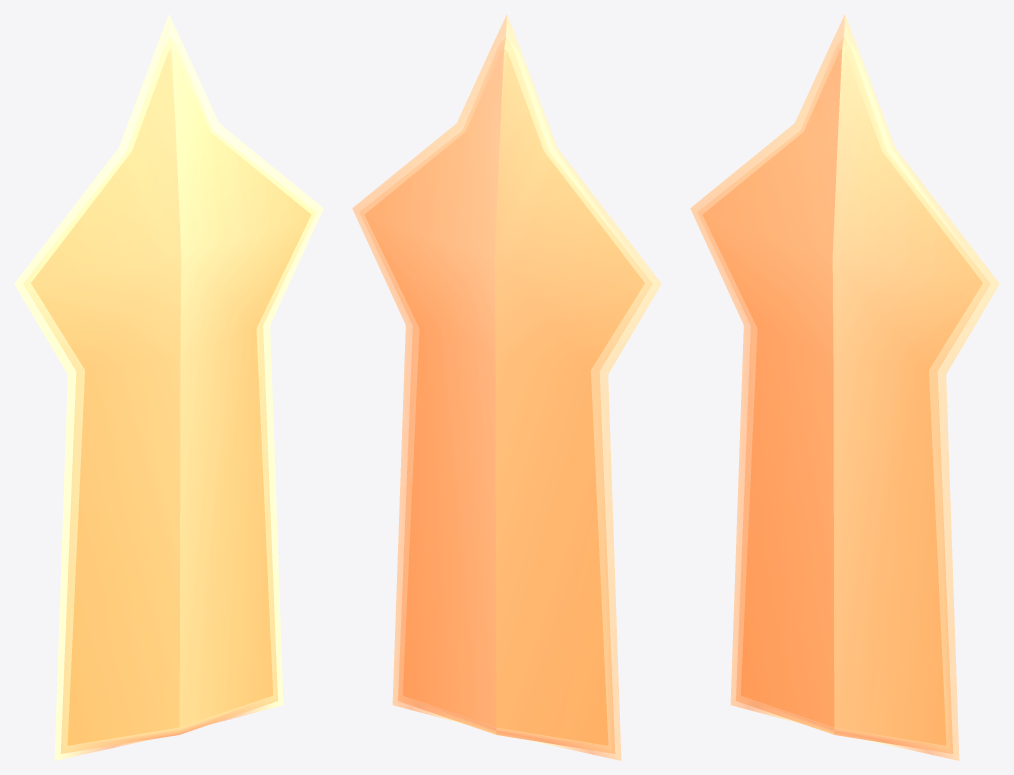
File: wood_blade (17).glb
3 renders of one model, left to right at view 1: azimuth 30°, elevation 25°; view 2: azimuth 150°, elevation 25°; view 3: azimuth 330°, elevation 25°, orthographic.
Visible parts, largest first — view 1: wood_blade_steel.069; view 2: wood_blade_steel.069; view 3: wood_blade_steel.069.
Part boxes in pixels (x1=…): wood_blade_steel.069: x1=14, y1=14, x2=323, y2=760; wood_blade_steel.069: x1=352, y1=14, x2=661, y2=760; wood_blade_steel.069: x1=690, y1=14, x2=999, y2=760.
Size of the model in its own units: 5.28 by 11.76 by 0.7262.
1 material, 1 textured.
